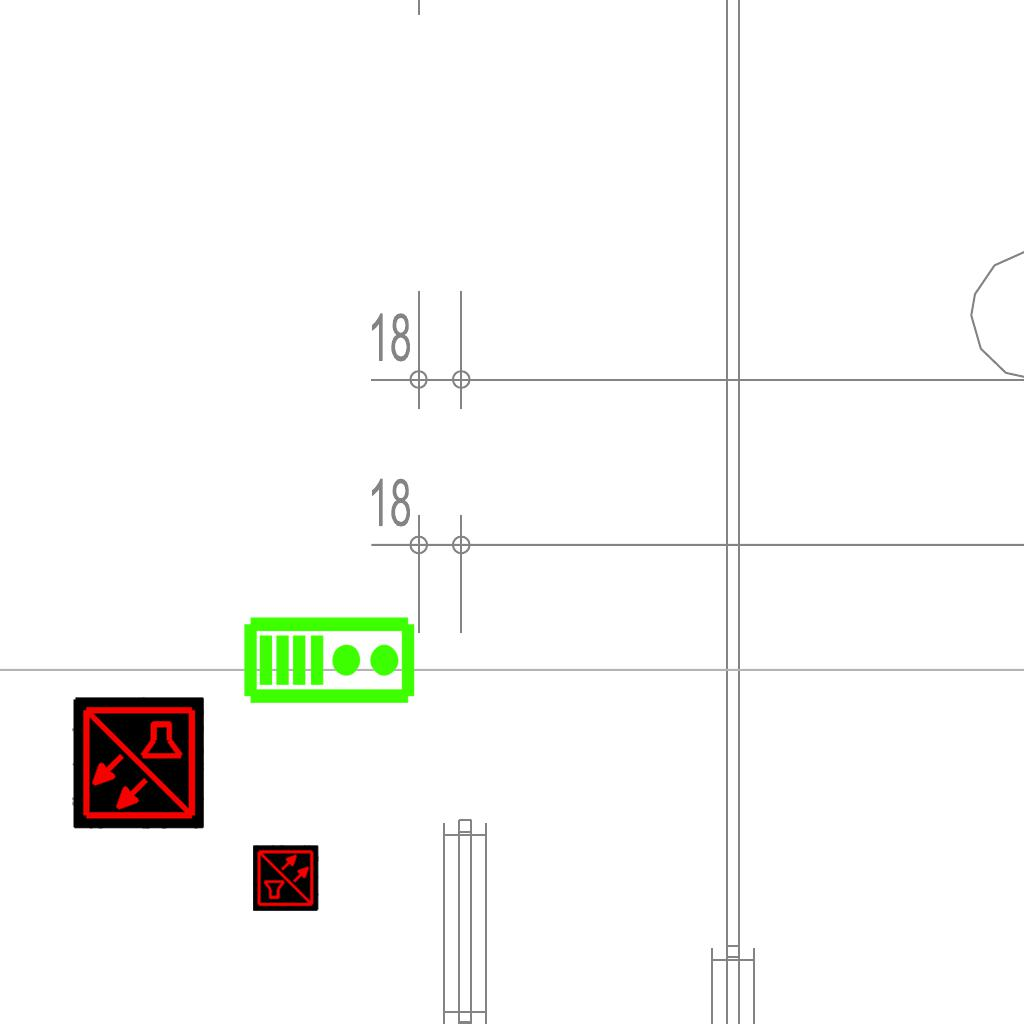Gegensprechanlage_mit_Video: (242, 611, 418, 706)
OKW_Multisensormelder_(Kombination_optischer_Rauch-Kahlenmonoxid_Waerme-Melder): (72, 697, 204, 829), (253, 845, 319, 911)
